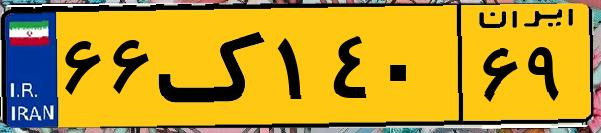0: (385, 28, 445, 110)
1: (270, 28, 330, 110)
4: (330, 28, 385, 110)
6: (57, 26, 110, 100), (475, 38, 525, 113), (110, 28, 158, 98)
9: (525, 38, 570, 115)
ک: (158, 12, 270, 120)
